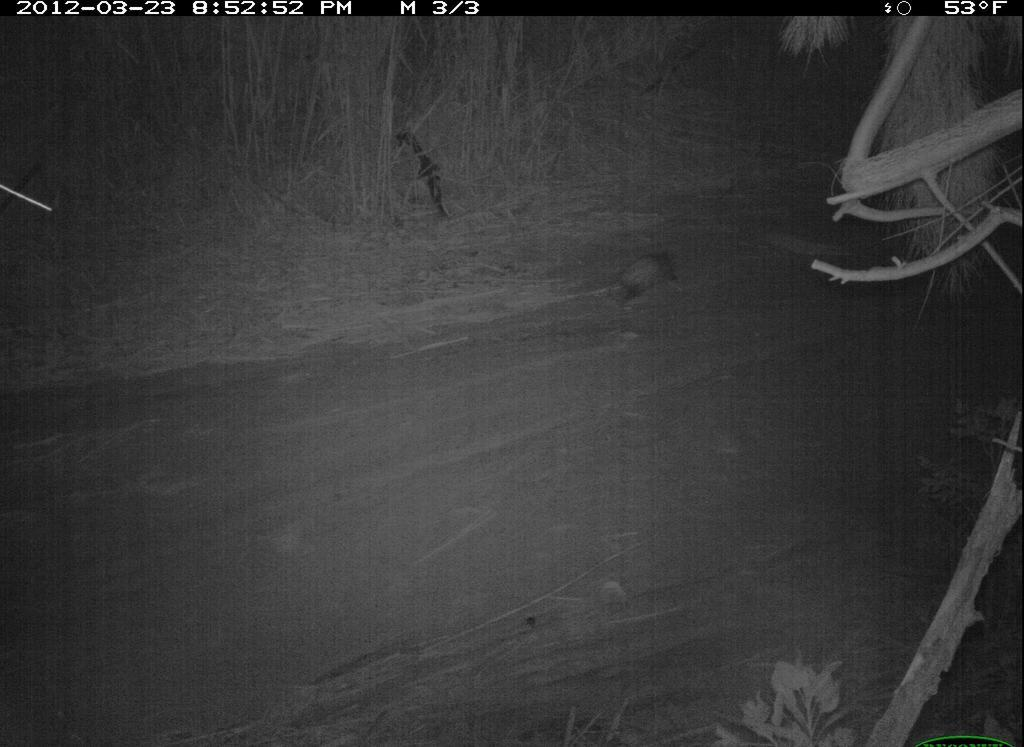opossum: (575, 245, 690, 315)
